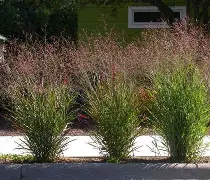weed: (9, 76, 76, 160)
